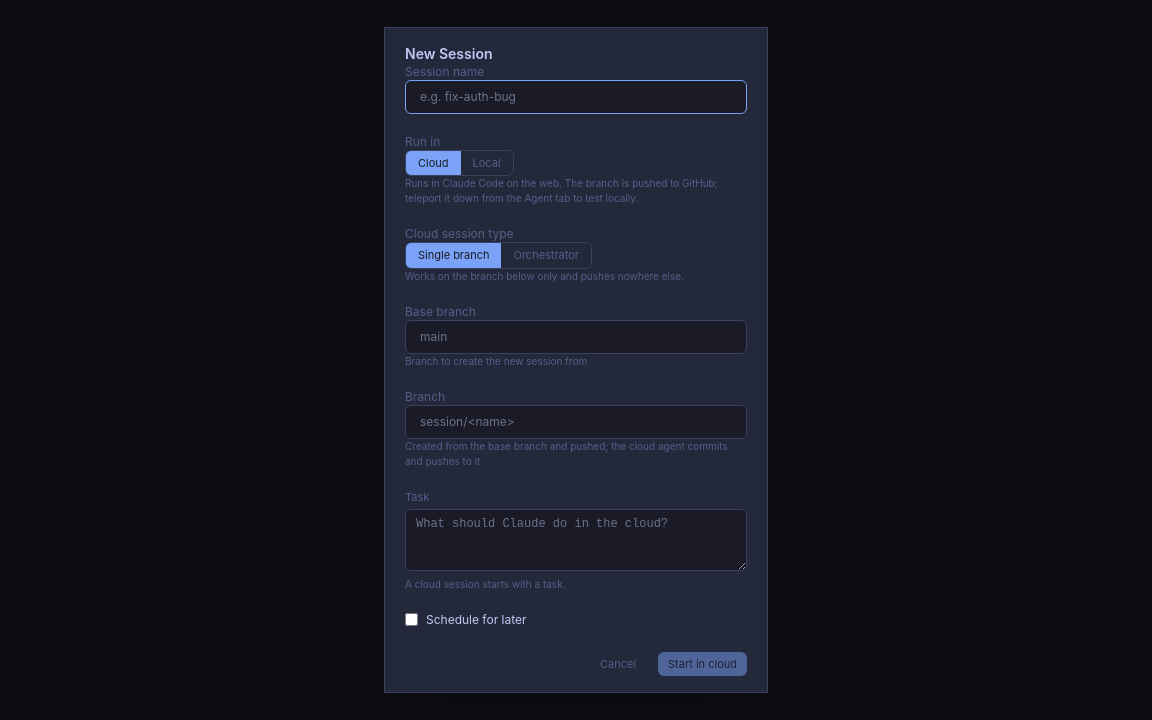
Test: <CreateSessionDialog> location toggle › hides the toggle for scheduled sessions (they start locally)
Click the checkbox labelled "Schedule for later" at (412, 620), box [405,613,418,626]
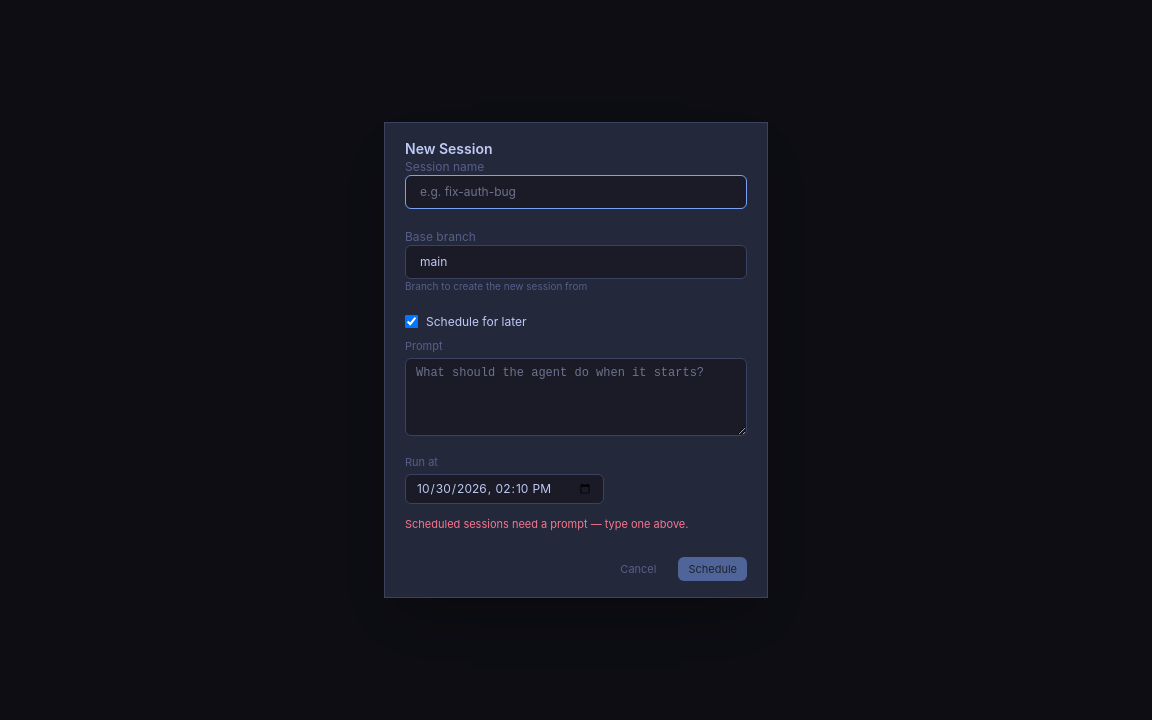
Check: the radio button labelled "Cloud" is gone
Check: the label labelled "Task" is gone
